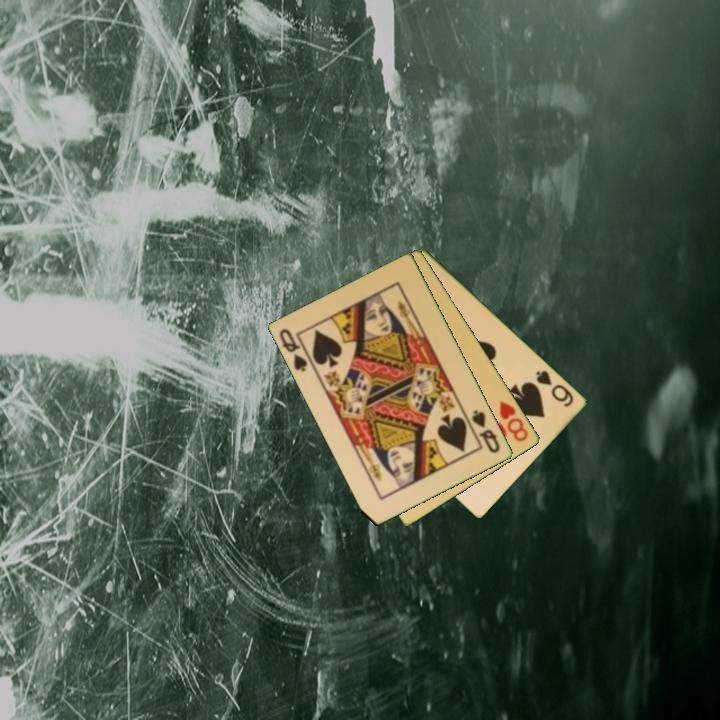6s: (533, 367, 577, 410)
8h: (496, 397, 532, 445)
Qs: (468, 406, 503, 456), (276, 325, 311, 375)
